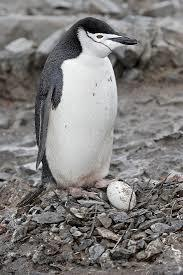chinstrap: (27, 12, 149, 220)
